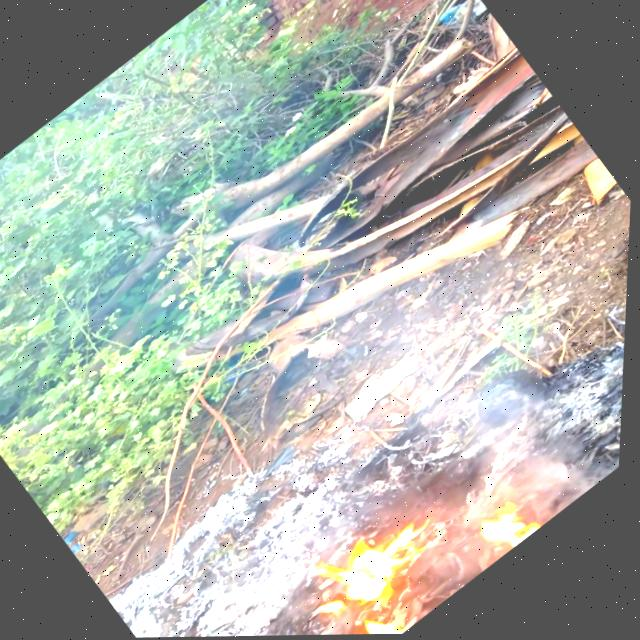Fire: (295, 492, 481, 636), (474, 492, 550, 563)
